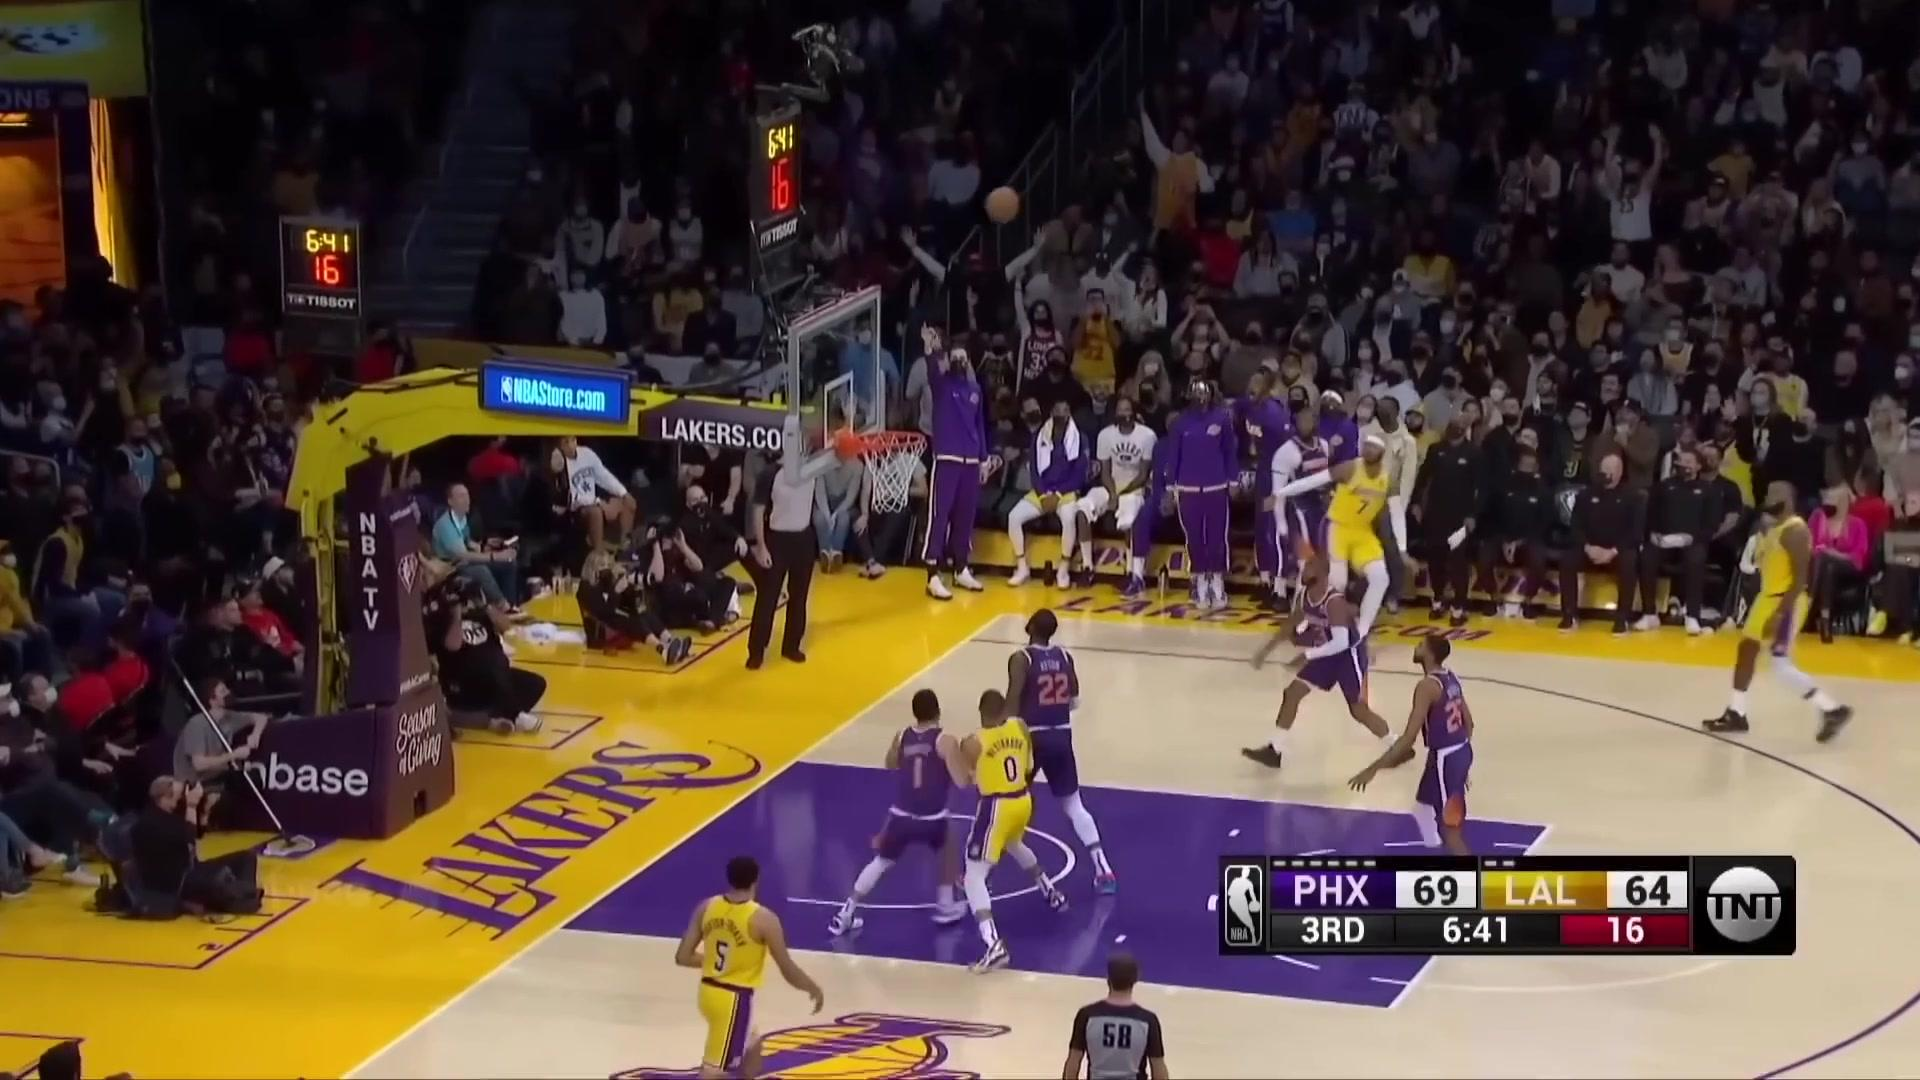no_foul: (844, 630, 1112, 944)
